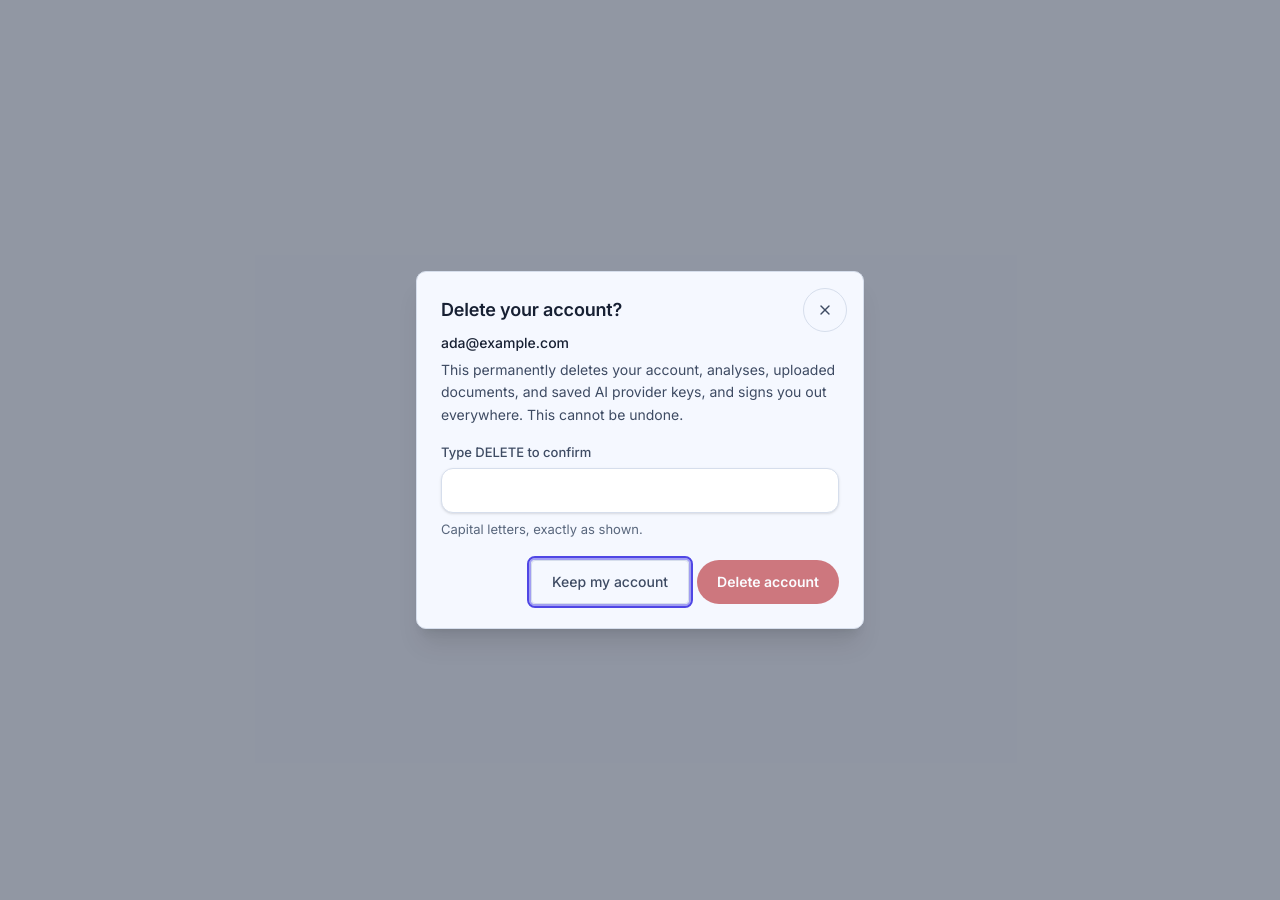
Test: DeleteAccountDialog › a refused delete stays open with mapped copy
This screenshot has width=1280, height=900.
Type "DELETE" into the field labelled "Type DELETE to confirm". click: (640, 491)
box: left=441, top=468, right=839, bottom=513
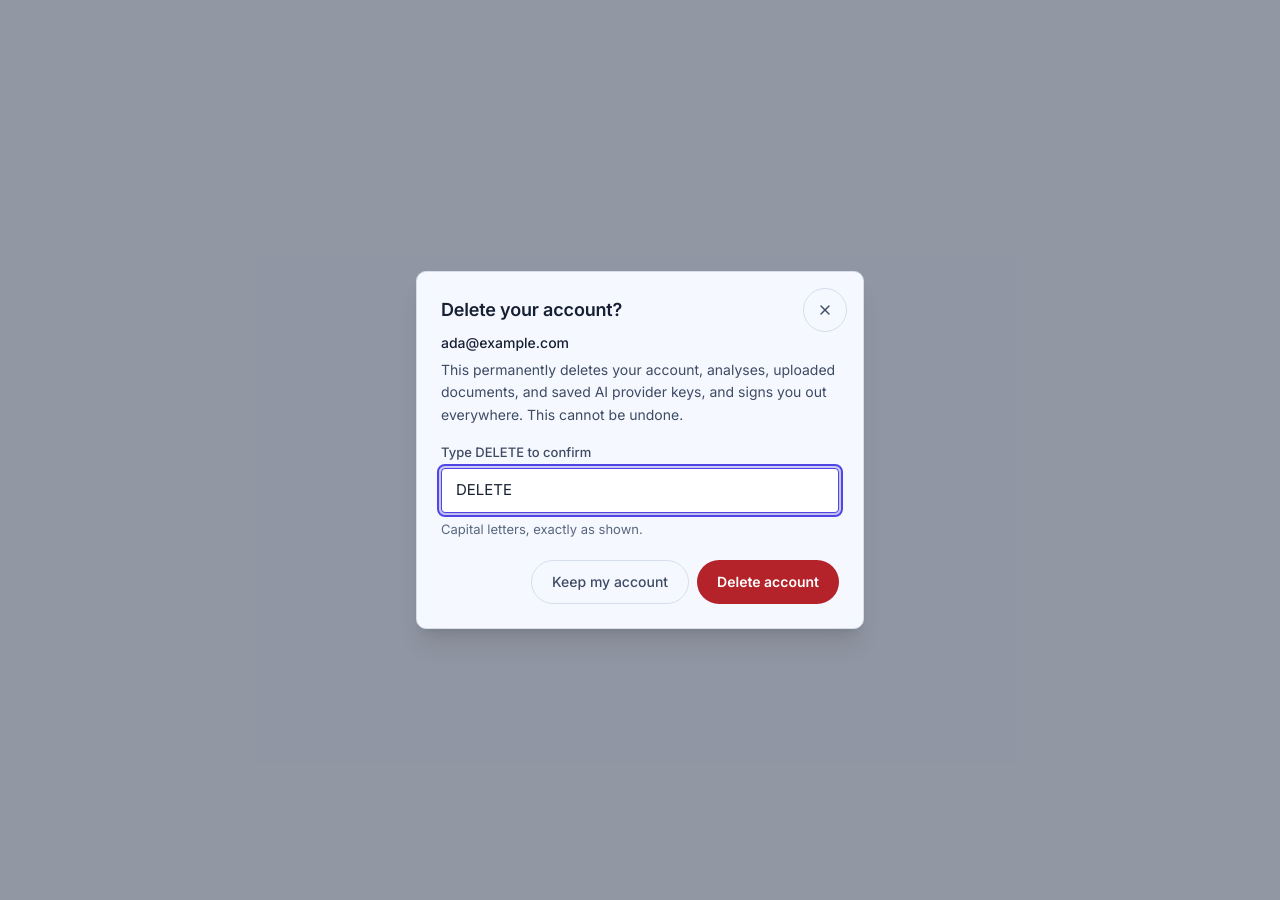
Click the button "Delete account". click: (768, 582)
box: left=697, top=560, right=839, bottom=604
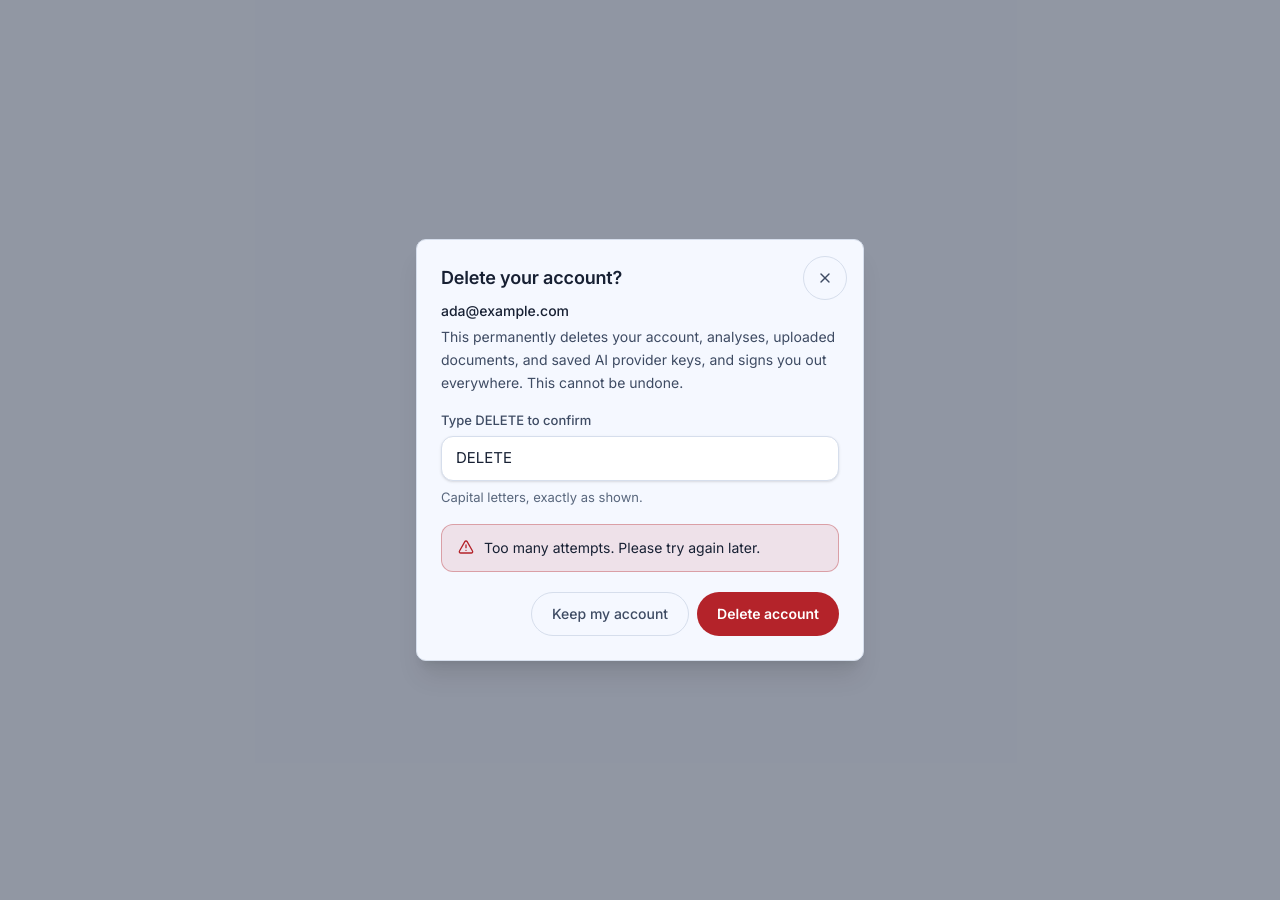
expect the text "Too many attempts. Please try again later." is shown: met, box left=484, top=537, right=760, bottom=560
